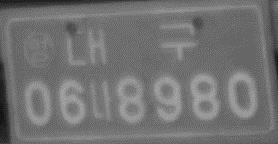0: (226, 71, 259, 119), (23, 78, 54, 126)
6: (57, 76, 87, 124)
8: (189, 72, 221, 121), (118, 74, 146, 125)
9: (152, 75, 183, 122)
나: (88, 78, 115, 126)
대구_D: (63, 21, 198, 69)
영: (22, 31, 58, 71)
